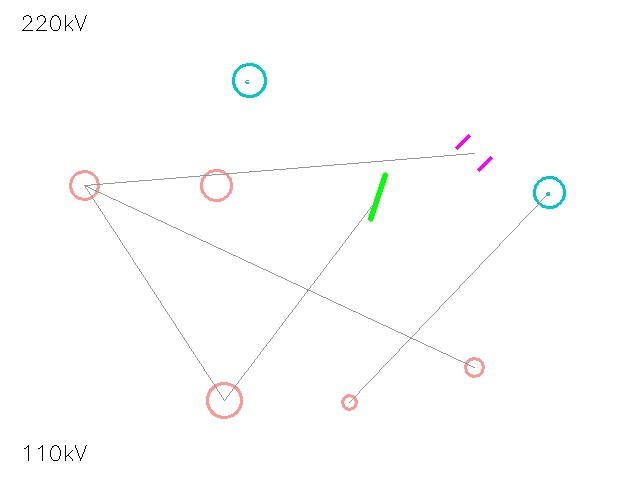busbar: (348, 167, 408, 227)
capacitor: (448, 127, 500, 179)
feeder_terminal: (334, 387, 364, 417)
generator: (233, 64, 265, 96), (534, 177, 564, 207)
reactor: (190, 366, 258, 434), (185, 154, 247, 216), (55, 156, 113, 214)
voltage_transformer: (455, 348, 493, 386)
